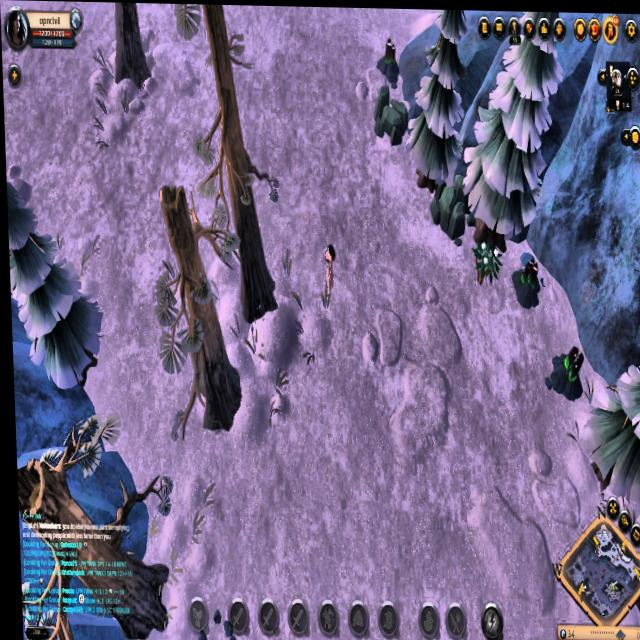flax: (470, 227, 500, 290)
sandstone: (425, 176, 469, 241), (371, 90, 414, 146)
tin_ore: (541, 343, 588, 401), (505, 254, 546, 306), (374, 30, 401, 84)
